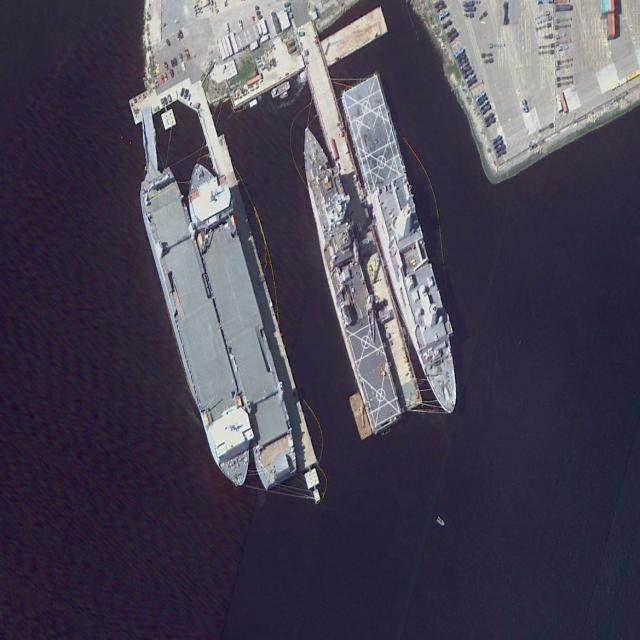Auxiliary Ships: (338, 68, 473, 427)
Cargo: (175, 147, 309, 494), (132, 152, 264, 500)
Landing: (287, 114, 410, 439)
